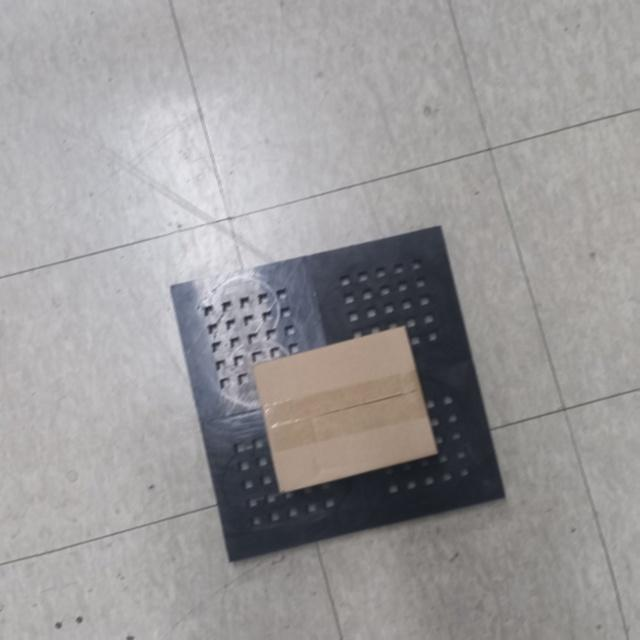box: (240, 319, 448, 506)
pallet: (153, 206, 524, 584)
